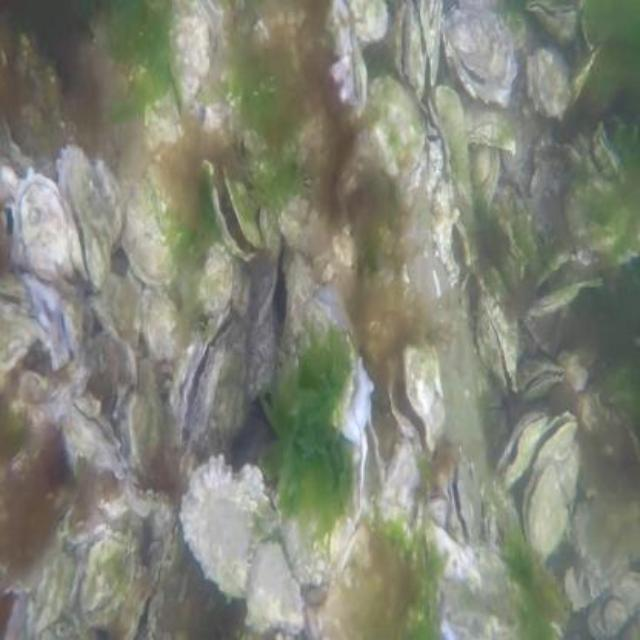Oyster-Closed: (180, 455, 311, 638), (311, 516, 443, 638), (11, 173, 78, 286), (123, 178, 179, 290), (120, 358, 168, 481), (371, 77, 428, 174), (244, 542, 305, 630), (165, 0, 210, 108), (68, 396, 127, 478), (435, 88, 472, 206), (528, 48, 572, 122), (458, 93, 515, 150), (144, 288, 186, 363), (467, 135, 501, 213), (198, 243, 232, 317), (418, 0, 444, 83), (348, 0, 386, 42), (125, 483, 165, 517)
Oyster-Open: (170, 308, 238, 452), (58, 146, 113, 293), (441, 0, 516, 105), (387, 341, 445, 468), (201, 156, 265, 265), (526, 239, 604, 316), (478, 268, 519, 402), (525, 411, 578, 500), (326, 343, 374, 441), (496, 409, 551, 490), (524, 464, 569, 562), (108, 566, 163, 638), (445, 459, 484, 547), (394, 4, 429, 97), (519, 363, 564, 404), (156, 366, 174, 395)
